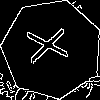X: (27, 24, 78, 64)
